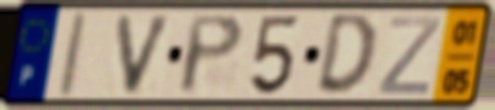5: (249, 13, 302, 97)
D: (313, 11, 379, 100)
I: (53, 8, 92, 101)
P: (177, 12, 247, 98)
V: (114, 12, 178, 99)
Z: (375, 14, 444, 97)
